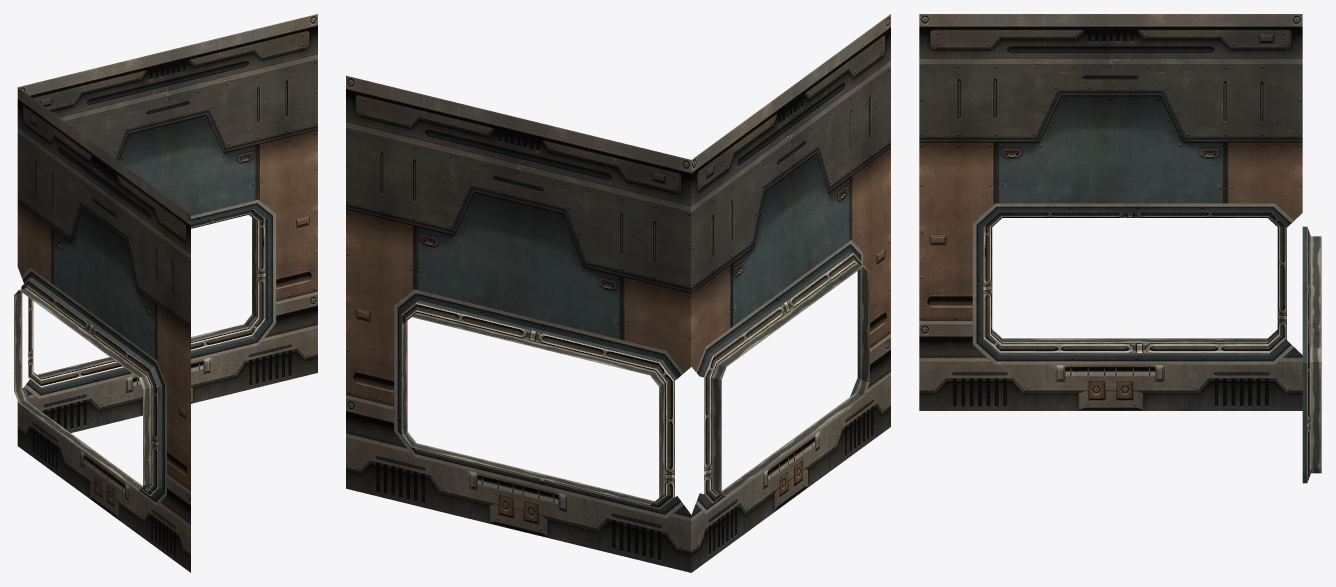
Rendered from mprw_window_corner.FBX.
3 views of the same model, side by side, from view 1: azimuth 30°, elevation 25°; view 2: azimuth 150°, elevation 25°; view 3: azimuth 270°, elevation 25° (orthographic). The views are drawn at different scales.
Visible parts, largest first — view 1: mprw_window_corner; view 2: mprw_window_corner; view 3: mprw_window_corner.
Part boxes in pixels (x1,y1,x2,y2): mprw_window_corner: (14,14,317,572); mprw_window_corner: (346,14,890,572); mprw_window_corner: (919,14,1321,483).
Bounding box in the file's own units: 735 × 800 × 735.
1 material, 1 textured.
